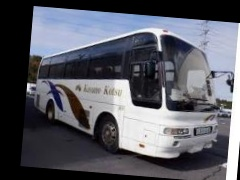bus: (31, 23, 224, 163)
